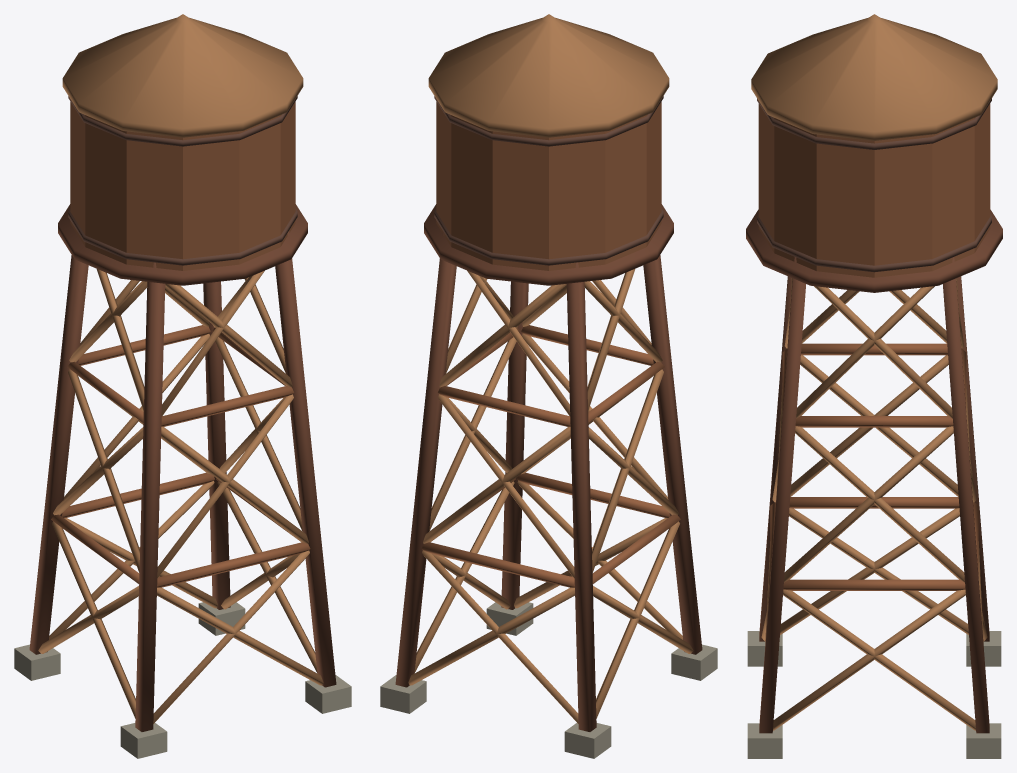
Rendered from alc_watertower_far.glb.
3 renders of one model, left to right at view 1: azimuth 30°, elevation 25°; view 2: azimuth 150°, elevation 25°; view 3: azimuth 270°, elevation 25°, orthographic. The views are drawn at different scales.
Parts seen in each view (by area): view 1: alc_watertower_far; view 2: alc_watertower_far; view 3: alc_watertower_far.
Boxes of the visible parts, left/top/right/bottom form: alc_watertower_far: left=14, top=14, right=351, bottom=758; alc_watertower_far: left=380, top=14, right=717, bottom=758; alc_watertower_far: left=746, top=14, right=1002, bottom=758.
Bounding box in the file's own units: 4.04 × 12 × 4.04.
